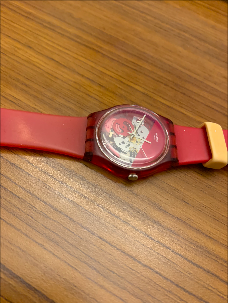object_name: (12, 101, 216, 177)
